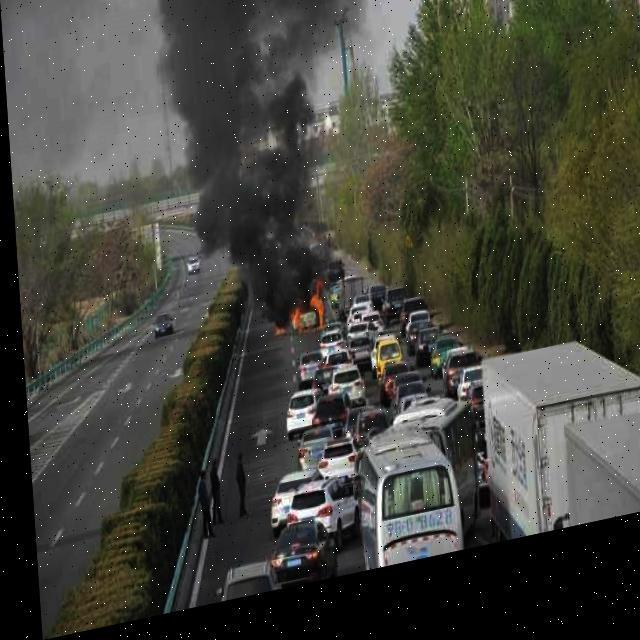Fire: (266, 284, 322, 350)
